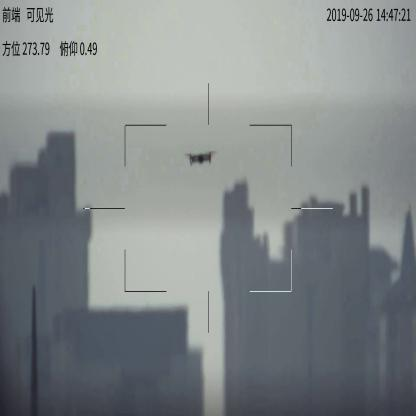uav: (184, 150, 215, 167)
